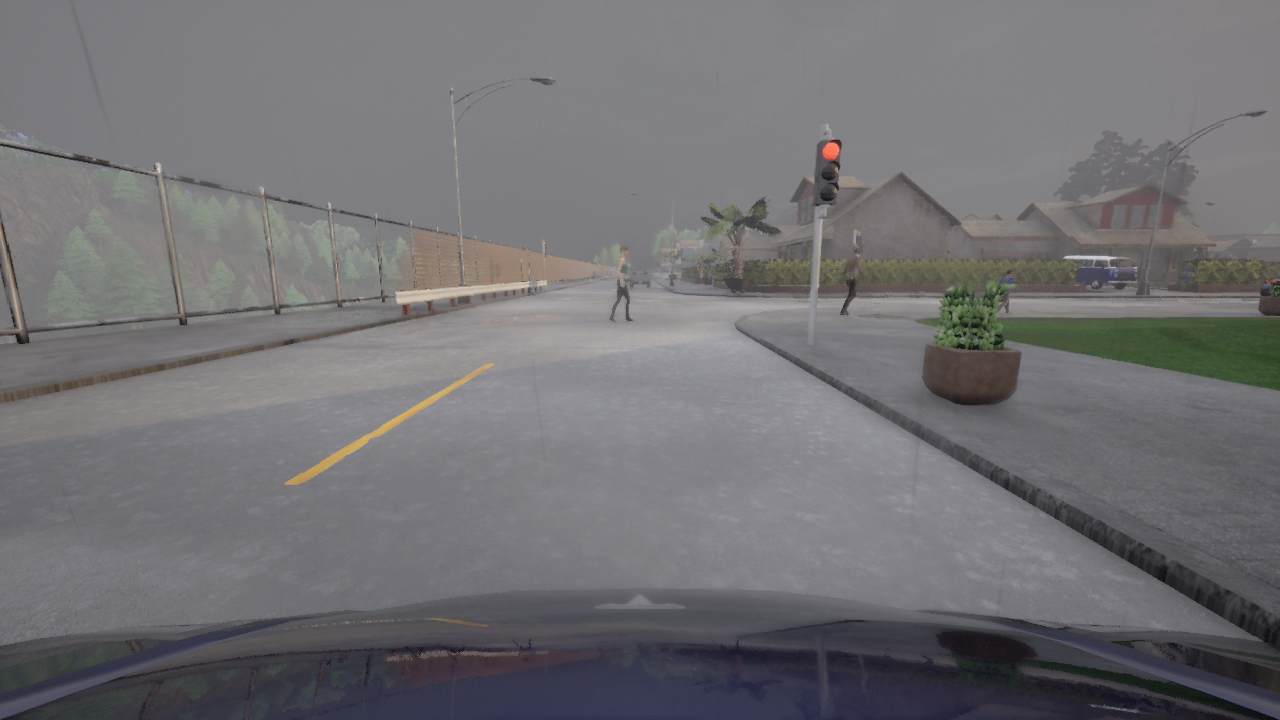cyclist: (0, 588, 1279, 719), (1062, 255, 1137, 288), (1191, 250, 1235, 259), (1260, 277, 1279, 296), (630, 270, 649, 286), (626, 271, 633, 283), (631, 273, 648, 274)
pedestrian: (608, 245, 635, 323), (839, 245, 866, 316), (997, 269, 1019, 313), (1179, 260, 1196, 292)
